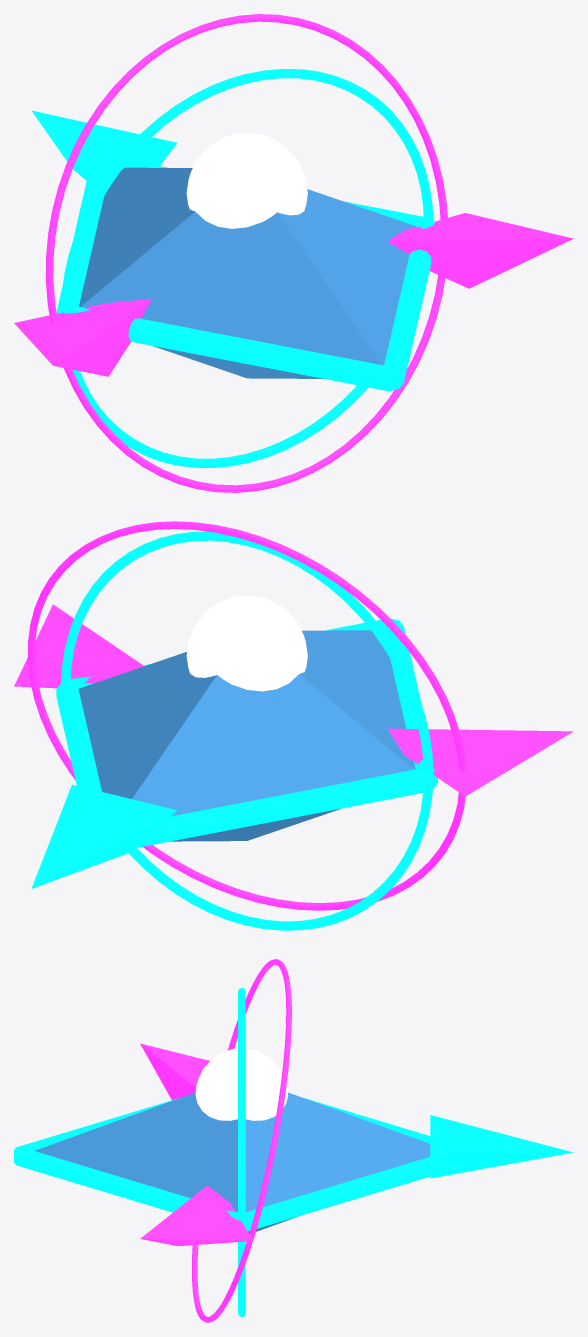
File: player_core.glb
The picture shows the model from 3 angles, top to bottom: view 1: azimuth 30°, elevation 25°; view 2: azimuth 150°, elevation 25°; view 3: azimuth 270°, elevation 25°; orthographic projection. The views are drawn at different scales.
Visible parts, largest first — view 1: PlayerDarkDiamondHull, PlayerMagentaTiltRing, PlayerCyanOrbitRing, PlayerWhiteHotReactor, PlayerRightWing, PlayerCyanEdge2, PlayerLeftWing, PlayerForwardProw, PlayerCyanEdge1, PlayerCyanEdge3; view 2: PlayerDarkDiamondHull, PlayerCyanOrbitRing, PlayerMagentaTiltRing, PlayerWhiteHotReactor, PlayerCyanEdge3, PlayerForwardProw, PlayerLeftWing, PlayerRightWing, PlayerCyanEdge0, PlayerCyanEdge2; view 3: PlayerDarkDiamondHull, PlayerWhiteHotReactor, PlayerForwardProw, PlayerCyanEdge0, PlayerRightWing, PlayerCyanEdge1, PlayerMagentaTiltRing, PlayerCyanOrbitRing, PlayerLeftWing, PlayerCyanEdge2, PlayerCyanEdge3.
Part boxes in pixels (x1,y1,x2,y2): PlayerDarkDiamondHull: [79, 167, 415, 378]; PlayerMagentaTiltRing: [46, 14, 447, 492]; PlayerCyanOrbitRing: [61, 69, 433, 467]; PlayerWhiteHotReactor: [186, 133, 307, 228]; PlayerRightWing: [387, 213, 573, 288]; PlayerCyanEdge2: [64, 306, 391, 391]; PlayerLeftWing: [14, 299, 151, 376]; PlayerForwardProw: [31, 110, 177, 183]; PlayerCyanEdge1: [384, 219, 434, 390]; PlayerCyanEdge3: [56, 179, 103, 313]; PlayerDarkDiamondHull: [78, 630, 415, 841]; PlayerCyanOrbitRing: [61, 531, 433, 930]; PlayerMagentaTiltRing: [28, 521, 466, 910]; PlayerWhiteHotReactor: [186, 595, 307, 691]; PlayerCyanEdge3: [118, 768, 431, 851]; PlayerForwardProw: [31, 784, 176, 888]; PlayerLeftWing: [387, 728, 573, 796]; PlayerRightWing: [14, 604, 144, 688]; PlayerCyanEdge0: [56, 682, 101, 791]; PlayerCyanEdge2: [383, 619, 437, 788]; PlayerDarkDiamondHull: [35, 1092, 430, 1233]; PlayerWhiteHotReactor: [195, 1048, 288, 1120]; PlayerForwardProw: [430, 1115, 573, 1178]; PlayerCyanEdge0: [244, 1157, 459, 1231]; PlayerRightWing: [140, 1185, 253, 1246]; PlayerCyanEdge1: [14, 1147, 238, 1220]; PlayerMagentaTiltRing: [192, 959, 291, 1322]; PlayerCyanOrbitRing: [238, 988, 245, 1316]; PlayerLeftWing: [140, 1043, 209, 1100]; PlayerCyanEdge2: [14, 1098, 179, 1155]; PlayerCyanEdge3: [304, 1098, 430, 1143].
Bounding box in the file's own units: 2.29 × 1.78 × 2.77.
